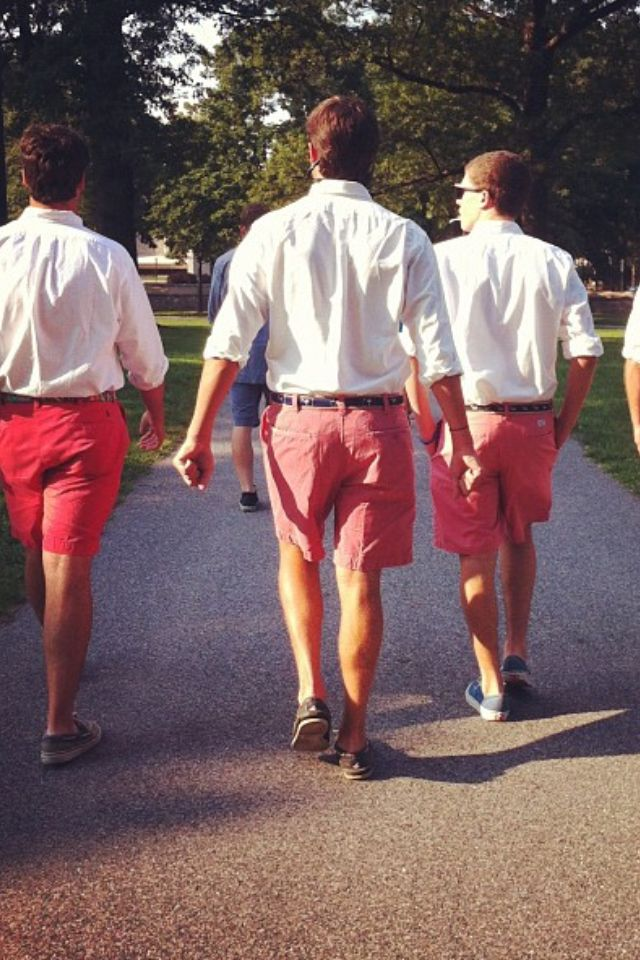Person: (175, 95, 458, 782), (1, 122, 165, 766), (434, 148, 604, 720)
